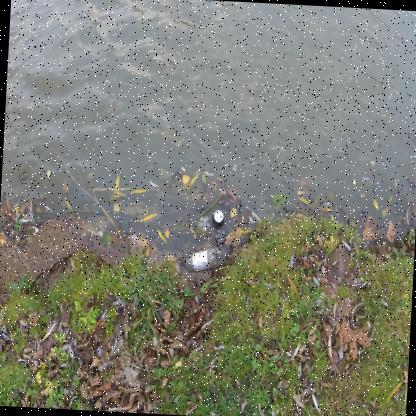Clear plastic bottle: (184, 248, 216, 272), (196, 216, 211, 235), (214, 229, 225, 246)
Drink can: (212, 209, 224, 227), (348, 217, 356, 229)
